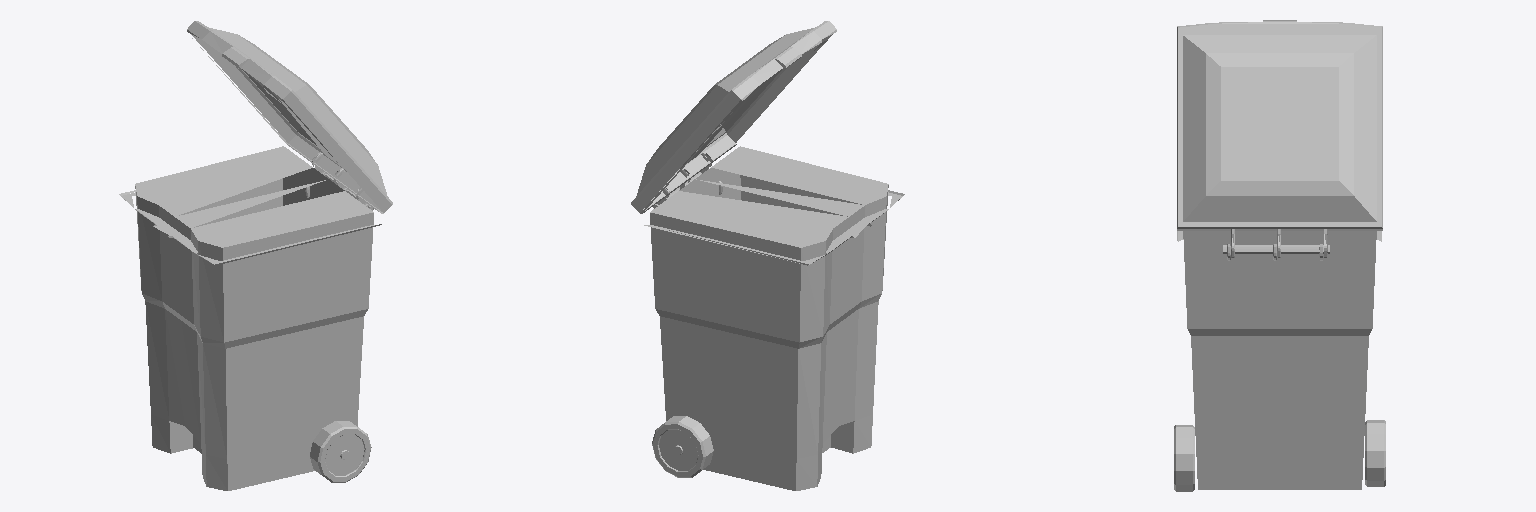
URDF robot description (00188):
<?xml version='1.0' encoding='utf-8'?>
<robot name="00188">
  <link name="base" />
  <link name="link_0">
    <visual>
      <origin xyz="0 0 0" rpy="0 0 0" />
      <geometry>
        <mesh filename="textured_objs/part_0.obj" />
      </geometry>
      <material name="material_0">
        <color rgba="0.8 0.8 0.8 1.0" />
      </material>
    </visual>
    <collision>
      <origin xyz="0 0 0" rpy="0 0 0" />
      <geometry>
        <mesh filename="textured_objs/part_0.obj" />
      </geometry>
    </collision>
    <inertial>
      <mass value="1.0" />
      <inertia ixx="0.1" ixy="0" ixz="0" iyy="0.1" iyz="0" izz="0.1" />
    </inertial>
  </link>
  <link name="link_1">
    <visual>
      <origin xyz="0 0 0" rpy="0 0 0" />
      <geometry>
        <mesh filename="textured_objs/part_1.obj" />
      </geometry>
      <material name="material_1">
        <color rgba="0.8 0.8 0.8 1.0" />
      </material>
    </visual>
    <collision>
      <origin xyz="0 0 0" rpy="0 0 0" />
      <geometry>
        <mesh filename="textured_objs/part_1.obj" />
      </geometry>
    </collision>
    <inertial>
      <mass value="1.0" />
      <inertia ixx="0.1" ixy="0" ixz="0" iyy="0.1" iyz="0" izz="0.1" />
    </inertial>
  </link>
  <link name="link_2">
    <visual>
      <origin xyz="0 0 0" rpy="0 0 0" />
      <geometry>
        <mesh filename="textured_objs/part_2.obj" />
      </geometry>
      <material name="material_2">
        <color rgba="0.8 0.8 0.8 1.0" />
      </material>
    </visual>
    <collision>
      <origin xyz="0 0 0" rpy="0 0 0" />
      <geometry>
        <mesh filename="textured_objs/part_2.obj" />
      </geometry>
    </collision>
    <inertial>
      <mass value="1.0" />
      <inertia ixx="0.1" ixy="0" ixz="0" iyy="0.1" iyz="0" izz="0.1" />
    </inertial>
  </link>
  <link name="link_3">
    <visual>
      <origin xyz="0 0 0" rpy="0 0 0" />
      <geometry>
        <mesh filename="textured_objs/part_3.obj" />
      </geometry>
      <material name="material_3">
        <color rgba="0.8 0.8 0.8 1.0" />
      </material>
    </visual>
    <collision>
      <origin xyz="0 0 0" rpy="0 0 0" />
      <geometry>
        <mesh filename="textured_objs/part_3.obj" />
      </geometry>
    </collision>
    <inertial>
      <mass value="1.0" />
      <inertia ixx="0.1" ixy="0" ixz="0" iyy="0.1" iyz="0" izz="0.1" />
    </inertial>
  </link>
  <joint name="joint_0_1" type="revolute">
    <parent link="link_0" />
    <child link="link_1" />
    <origin xyz="0.000186 0.785657 -0.676364" rpy="0 0 0" />
    <axis xyz="-0.999999 0.000285 0.000057" />
    <limit lower="0.030160" upper="1.806370" effort="1000" velocity="100" />
  </joint>
  <joint name="joint_0_2" type="revolute">
    <parent link="link_0" />
    <child link="link_2" />
    <origin xyz="-0.000579 -0.808975 -0.327589" rpy="0 0 0" />
    <axis xyz="-0.999999 0.000525 0.000472" />
    <limit lower="-6.302114" upper="0.024858" effort="1000" velocity="100" />
  </joint>
  <joint name="joint_0_3" type="revolute">
    <parent link="link_0" />
    <child link="link_3" />
    <origin xyz="0.000030 -0.812054 -0.314053" rpy="0 0 0" />
    <axis xyz="-0.999999 0.000078 -0.000298" />
    <limit lower="-6.317300" upper="-0.036621" effort="1000" velocity="100" />
  </joint>
  <joint name="joint_base_link_0" type="fixed">
    <origin rpy="1.570796326794897 0 -1.570796326794897" xyz="0 0 0" />
    <child link="link_0" />
    <parent link="base" />
  </joint>
</robot>

--- Render facts (derived) ---
The picture shows the robot from 3 angles, left to right: view 1: azimuth 30°, elevation 25°; view 2: azimuth 150°, elevation 25°; view 3: azimuth 270°, elevation 25°; orthographic projection.
Model 00188 with 5 links and 4 joints (3 revolute, 1 fixed), rooted at base, posed all joints at 0 but 2 set to mid-range because 0 is outside their limits (joint_0_1 = 0.9183, joint_0_3 = -3.18).
Links seen in each view (by area): view 1: link_0, link_1, link_3; view 2: link_0, link_1, link_2; view 3: link_0, link_1, link_2, link_3.
Boxes of the visible links, <box> form: link_0: <box>119,146,381,490</box>; link_1: <box>187,21,392,213</box>; link_3: <box>310,421,371,482</box>; link_0: <box>644,146,904,490</box>; link_1: <box>631,21,836,213</box>; link_2: <box>652,416,713,477</box>; link_0: <box>1177,231,1381,489</box>; link_1: <box>1177,20,1382,246</box>; link_2: <box>1365,420,1385,486</box>; link_3: <box>1174,425,1194,491</box>.
Bounding box of the posed robot: 1.43 × 1.29 × 2.94 m (x, y, z).
Meshes: 4 distinct files referenced, 4 mesh visuals loaded (4 OBJ).
